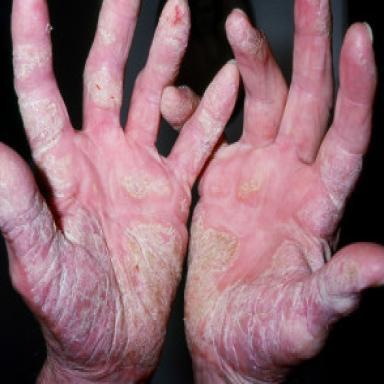eczema: (0, 145, 186, 373), (185, 206, 365, 382), (17, 87, 73, 197), (299, 150, 361, 233), (197, 63, 239, 172), (154, 1, 190, 79), (226, 12, 265, 61), (160, 86, 200, 131), (83, 67, 123, 107), (13, 44, 52, 79), (121, 172, 168, 199), (349, 46, 377, 83), (94, 2, 115, 49), (312, 0, 329, 43), (213, 139, 252, 157), (237, 176, 261, 201), (179, 194, 190, 215), (210, 186, 226, 196)
